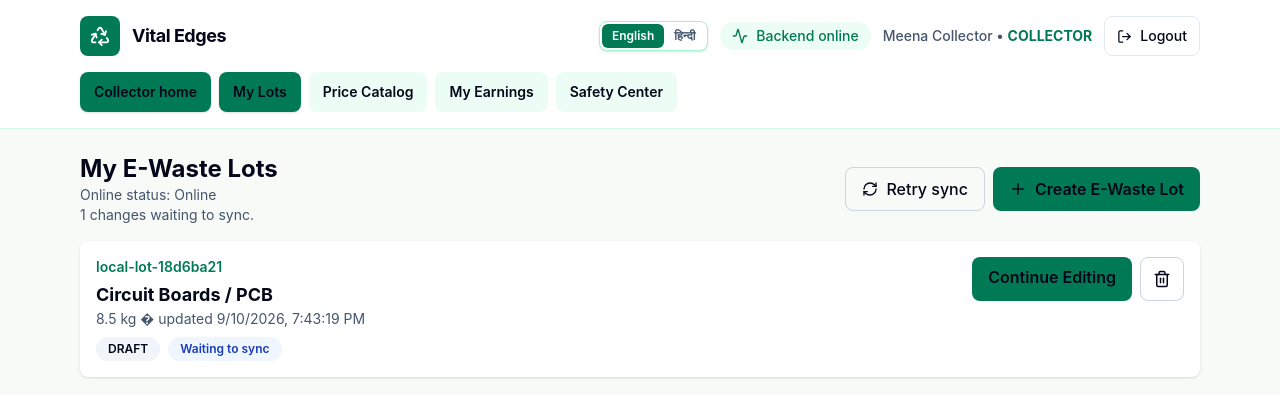
Scenario: Phase 2 collector drafts › My Lots displays local draft and supports delete
Expected: the heading "Circuit Boards / PCB" is shown, [96,284,273,305]
Click the button named "Delete draft". click: (1162, 279)
box: [1140,257,1184,301]
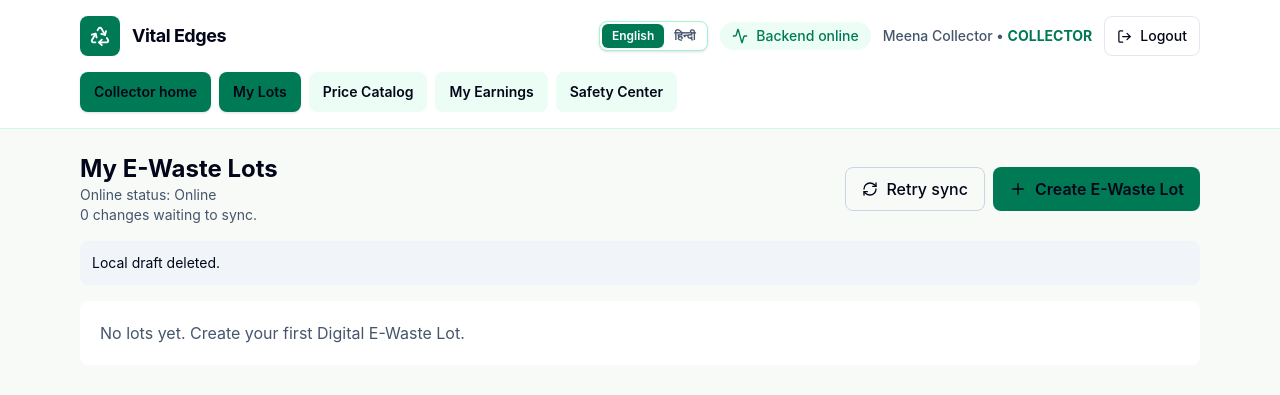
Result: the text "No lots yet. Create your first Digital E-Waste Lot." is shown at [80,301,1200,365]
